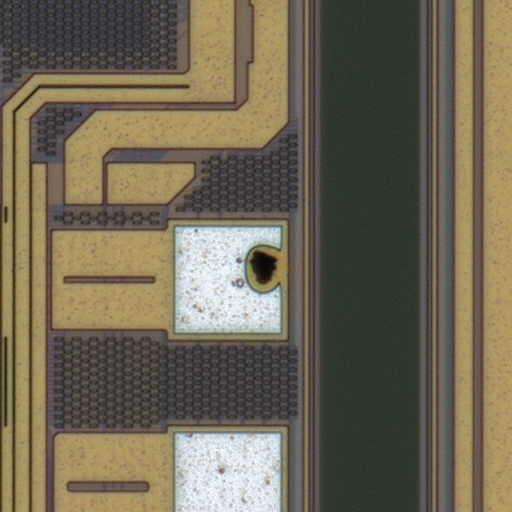BLOCK ETCH: (228, 239, 292, 303)
